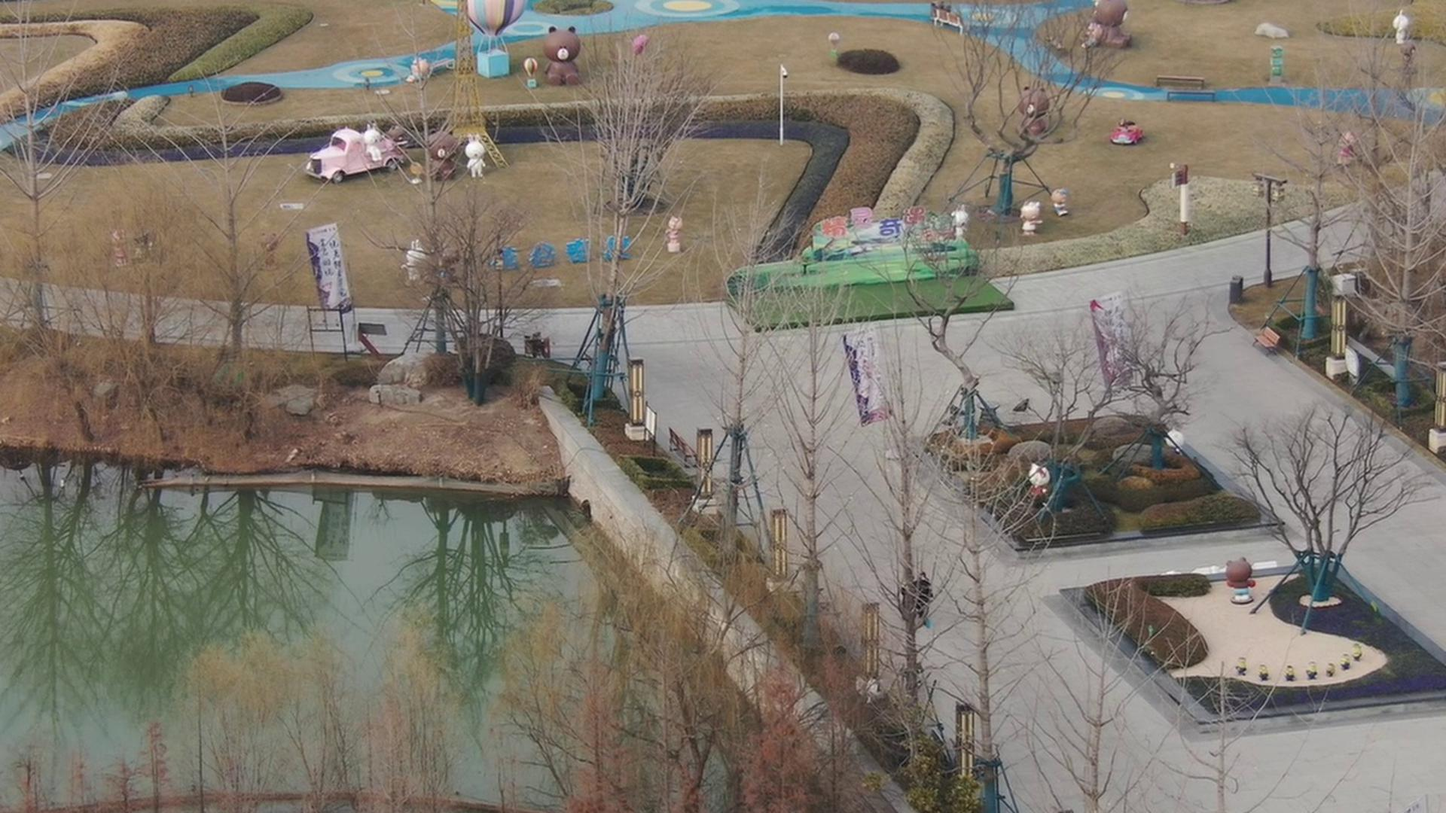human: (908, 571, 938, 628)
